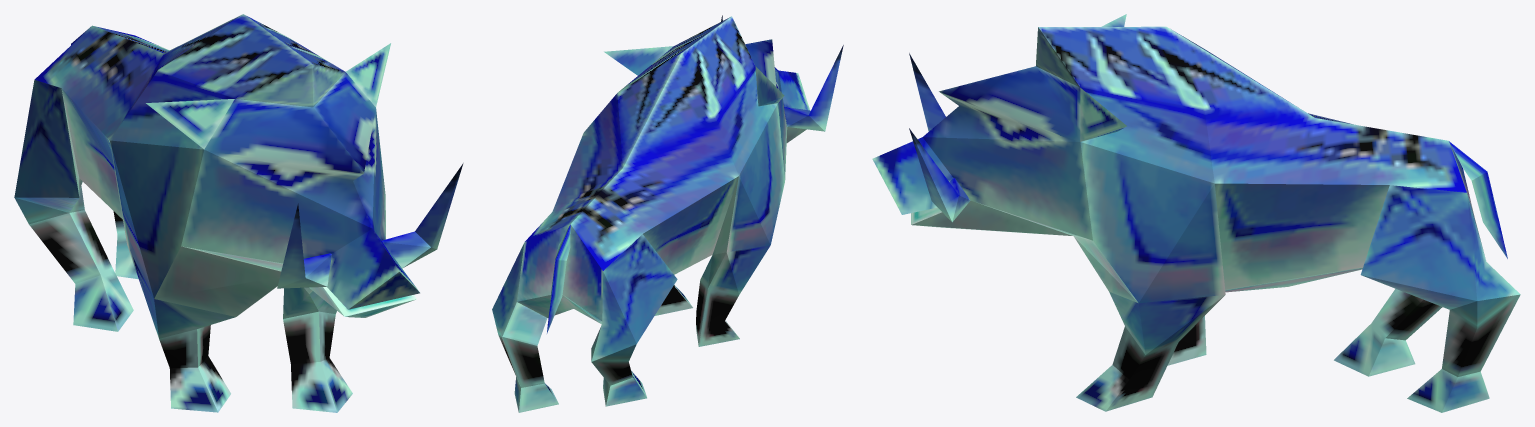
File: battle_boar_frost_base.glb
3 renders of one model, left to right at view 1: azimuth 30°, elevation 25°; view 2: azimuth 150°, elevation 25°; view 3: azimuth 270°, elevation 25°, orthographic. The views are drawn at different scales.
Parts seen in each view (by area): view 1: MeshRoot; view 2: MeshRoot; view 3: MeshRoot.
Part boxes in pixels (x1=…): MeshRoot: x1=14, y1=14, x2=463, y2=412; MeshRoot: x1=492, y1=15, x2=843, y2=412; MeshRoot: x1=872, y1=14, x2=1520, y2=412.
Size of the model in its own units: 1.81 by 2.65 by 4.43.
Materials: 2 (2 with a texture image).
